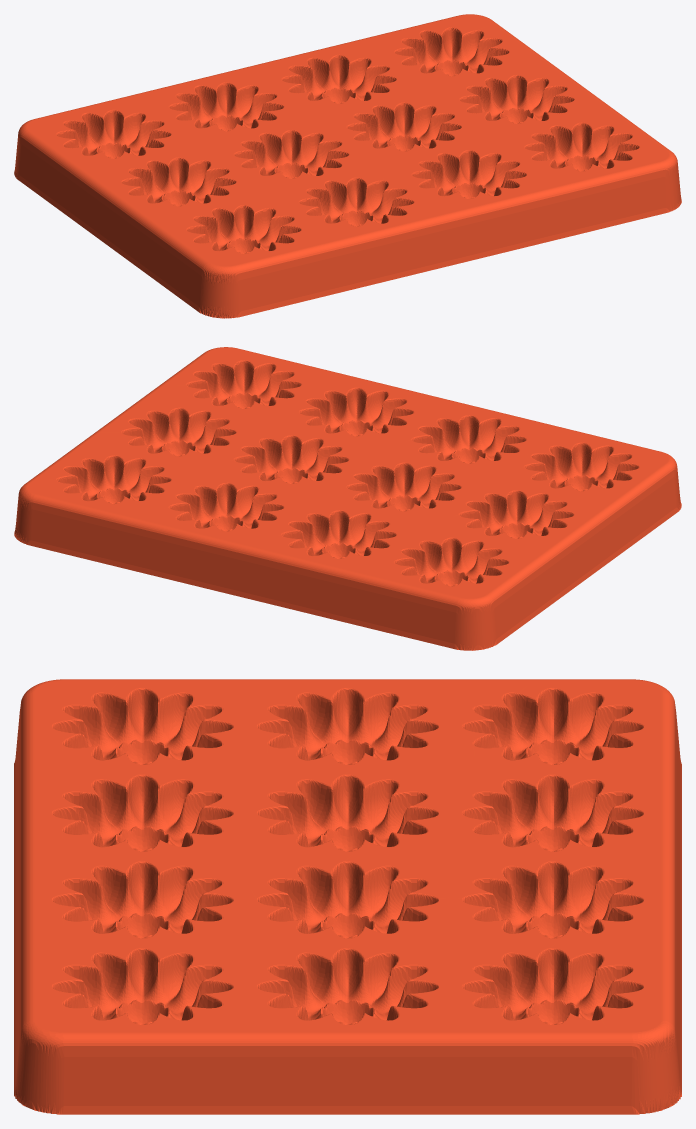
The model's file is mold.glb.
3 views of the same model, one above another, from view 1: azimuth 30°, elevation 25°; view 2: azimuth 150°, elevation 25°; view 3: azimuth 270°, elevation 25° (orthographic). The views are drawn at different scales.
Visible parts, largest first — view 1: geometry_0; view 2: geometry_0; view 3: geometry_0.
Boxes of the visible parts, bbox=[...] form: geometry_0: bbox=[14, 14, 681, 318]; geometry_0: bbox=[14, 347, 681, 650]; geometry_0: bbox=[14, 679, 681, 1114].
Bounding box in the file's own units: 0.1558 × 0.0145 × 0.1192.
